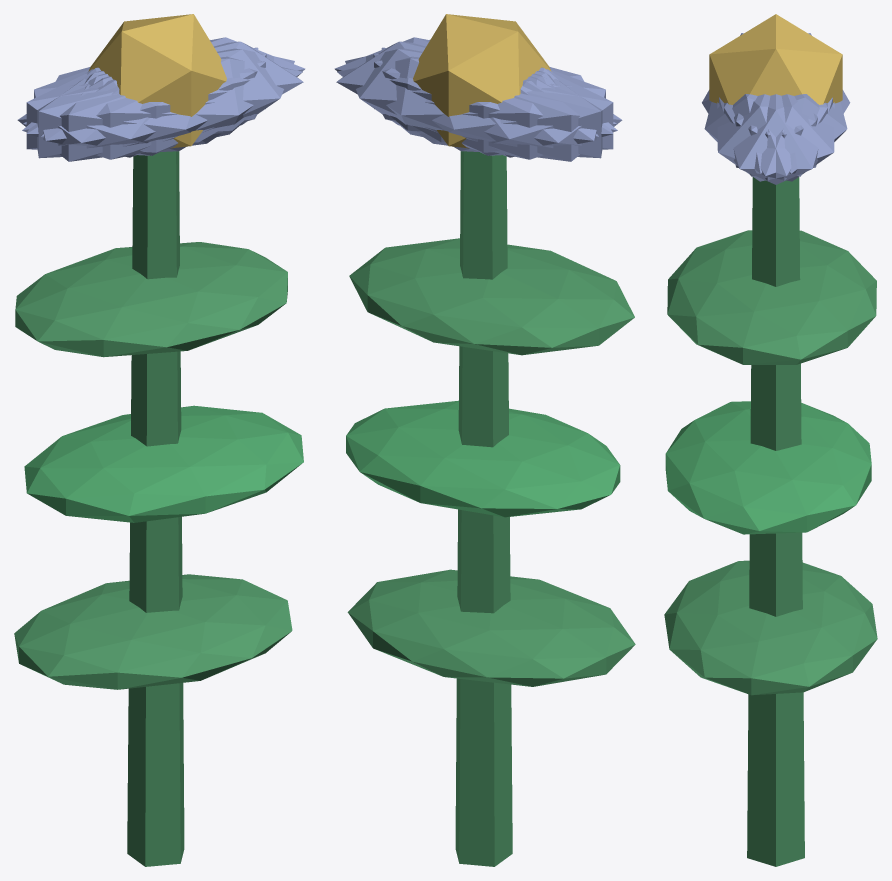
Rendered from zanthoxylum-davyi.glb.
3 renders of one model, left to right at view 1: azimuth 30°, elevation 25°; view 2: azimuth 150°, elevation 25°; view 3: azimuth 270°, elevation 25°, orthographic.
Parts seen in each view (by area): view 1: stem, leaf1, leaf2, leaf0, center, petal1, petal6, petal2, petal5, petal7, petal0, petal4 (+2 smaller); view 2: stem, leaf2, leaf0, leaf1, center, petal8, petal3, petal7, petal4, petal2, petal0, petal5 (+2 smaller); view 3: stem, leaf2, leaf1, leaf0, center, petal0, petal5, petal4, petal8, petal1.
Part boxes in pixels (box(x1,y1,x2,y2)): stem: box(127, 151, 184, 866); leaf1: box(24, 405, 303, 522); leaf2: box(15, 242, 287, 357); leaf0: box(14, 574, 292, 689); center: box(88, 14, 226, 148); petal1: box(22, 56, 302, 159); petal6: box(17, 69, 220, 161); petal2: box(37, 47, 258, 158); petal5: box(41, 48, 294, 152); petal7: box(26, 53, 266, 155); petal0: box(88, 41, 303, 142); petal4: box(23, 37, 305, 134); stem: box(455, 151, 512, 866); leaf2: box(349, 238, 634, 355); leaf0: box(347, 569, 635, 686); leaf1: box(346, 400, 620, 517); center: box(413, 14, 551, 148); petal8: box(337, 56, 617, 159); petal3: box(419, 69, 622, 161); petal7: box(381, 47, 602, 158); petal4: box(345, 48, 598, 152); petal2: box(373, 53, 613, 155); petal0: box(336, 41, 551, 142); petal5: box(334, 37, 616, 134); stem: box(747, 177, 804, 866); leaf2: box(667, 230, 876, 364); leaf1: box(665, 401, 871, 534); leaf0: box(664, 560, 877, 695); center: box(709, 14, 842, 104); petal0: box(719, 94, 832, 184); petal5: box(717, 94, 827, 181); petal4: box(724, 94, 834, 181); petal8: box(734, 94, 847, 173); petal1: box(704, 94, 817, 173).
Size of the model in its own units: 0.1466 by 0.4178 by 0.0982.
